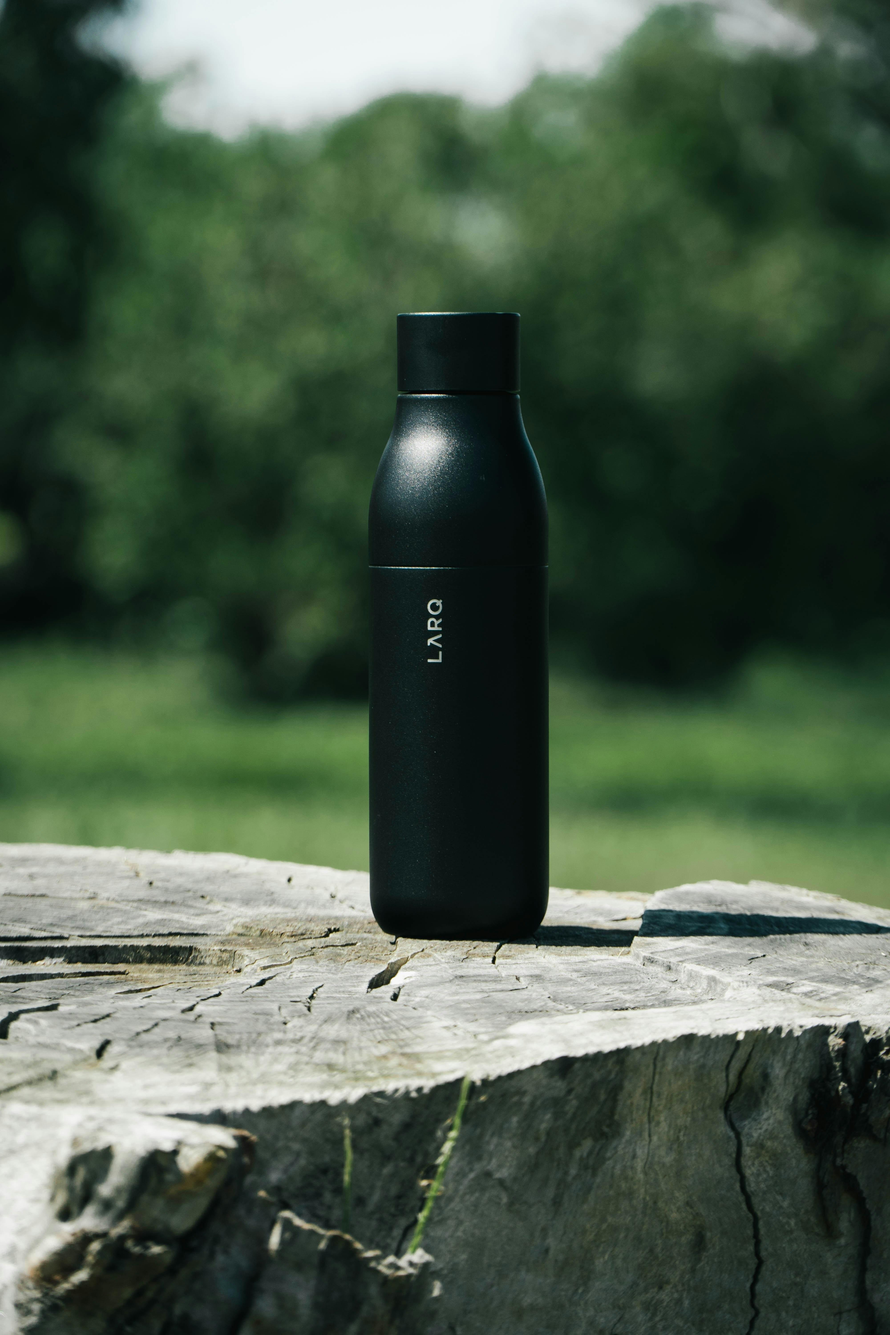Bottle-Detection: (327, 271, 610, 981)
